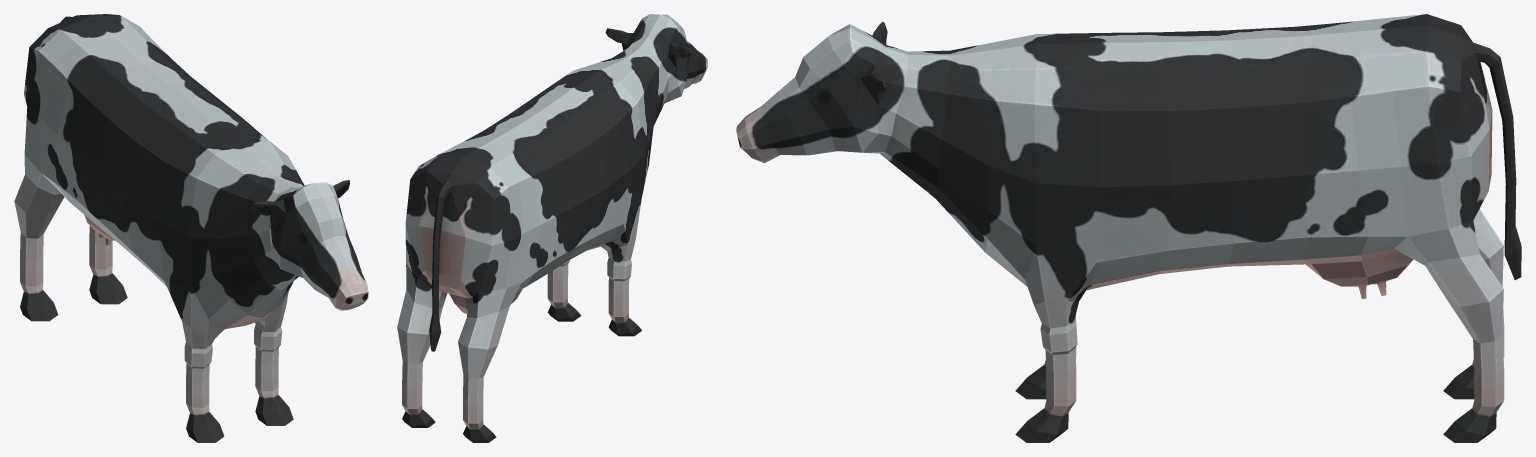
The model's file is cow.glb.
3 views of the same model, side by side, from view 1: azimuth 30°, elevation 25°; view 2: azimuth 150°, elevation 25°; view 3: azimuth 270°, elevation 25° (orthographic). The views are drawn at different scales.
Parts seen in each view (by area): view 1: Cow_mesh; view 2: Cow_mesh; view 3: Cow_mesh.
Part boxes in pixels (x1,y1,x2,y2): Cow_mesh: [14, 14, 368, 442]; Cow_mesh: [397, 14, 707, 442]; Cow_mesh: [736, 14, 1521, 442].
Bounding box in the file's own units: 3.36 × 7.42 × 13.65.
1 material, 1 textured.
